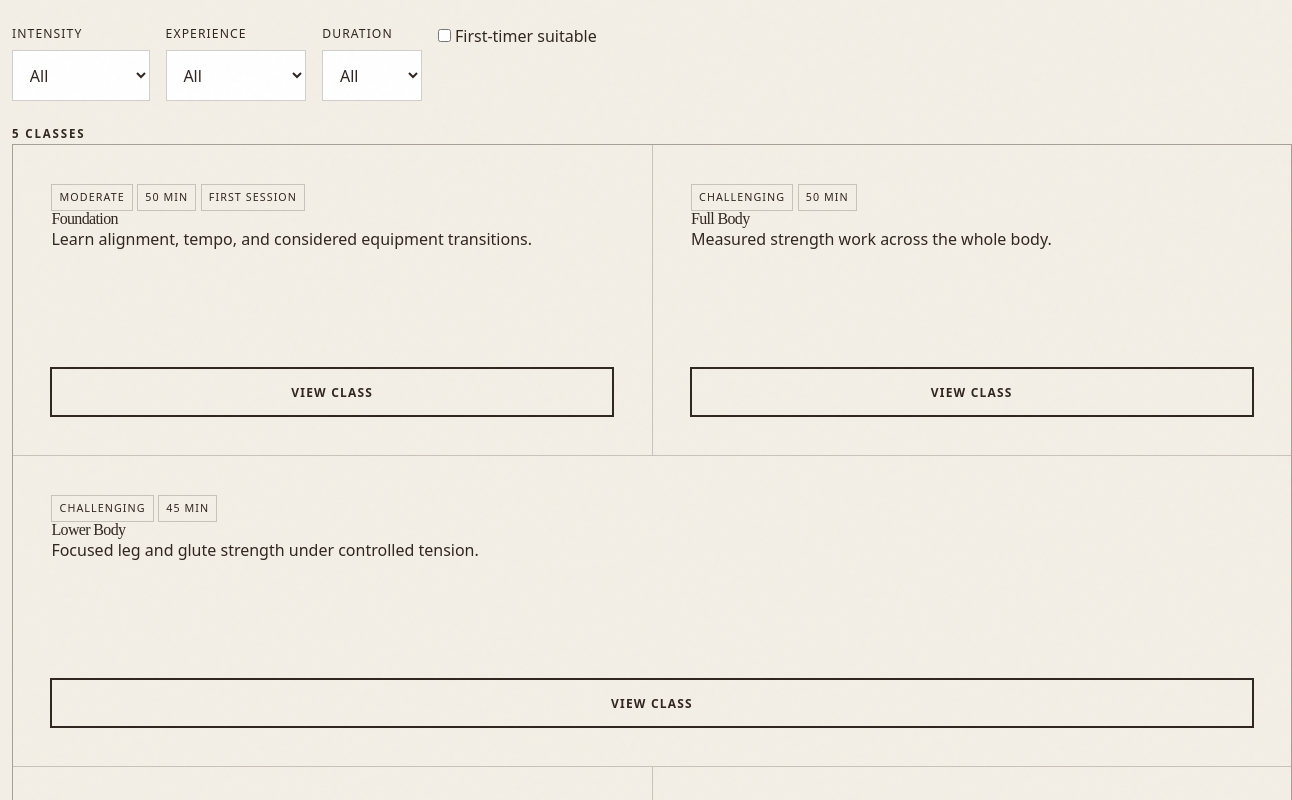
interactive components › filters class selection
Select "Challenging" in the dropdown labelled "Intensity": (81, 76) [12, 50, 150, 101]
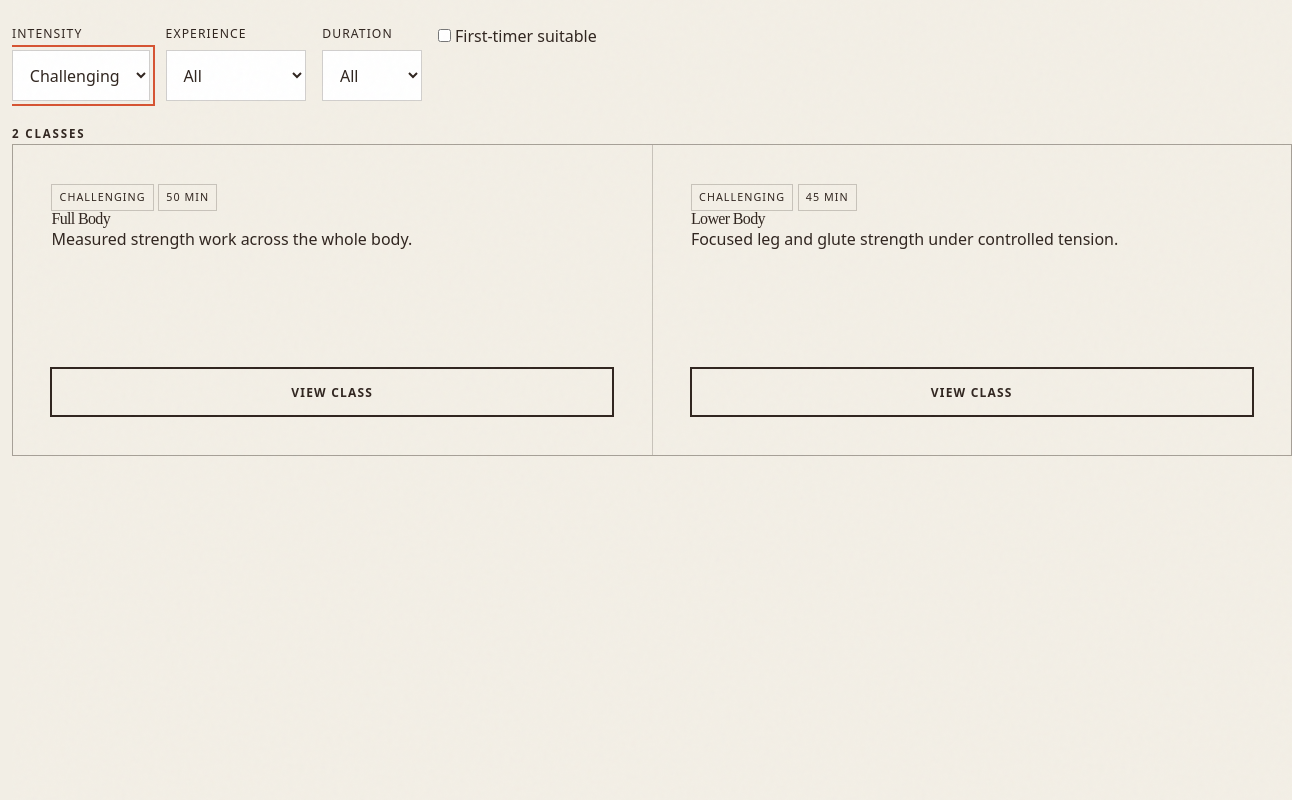
Expected: the heading "Full Body" is shown, [51, 210, 110, 227]
Now the heading "Foundation" is gone
